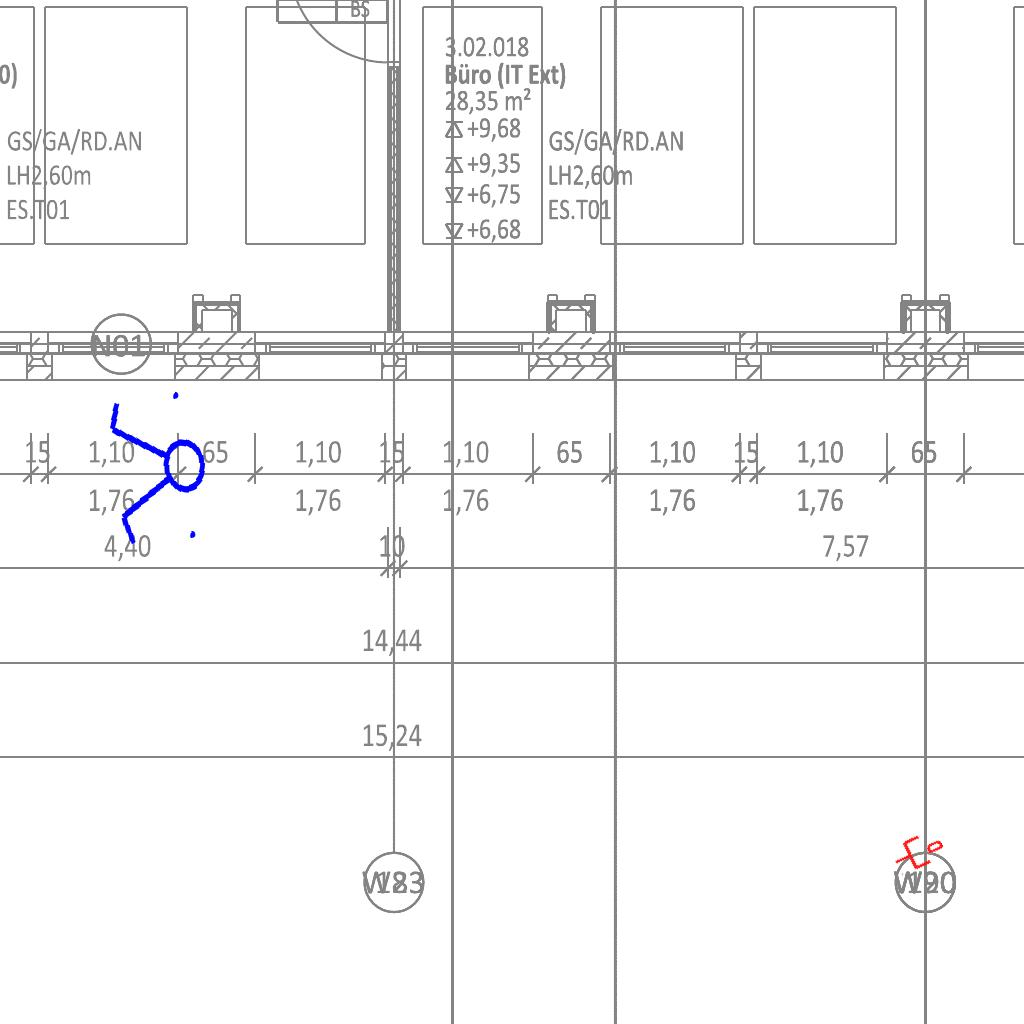Datenanschluss_einfach: (888, 826, 948, 878)
Serienschalter: (101, 380, 217, 560)
